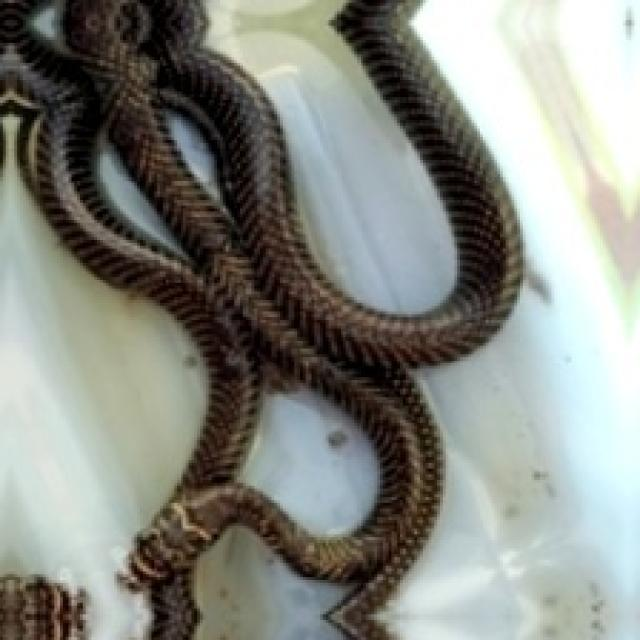paradise tree snake: (0, 0, 520, 637), (234, 383, 380, 537)
